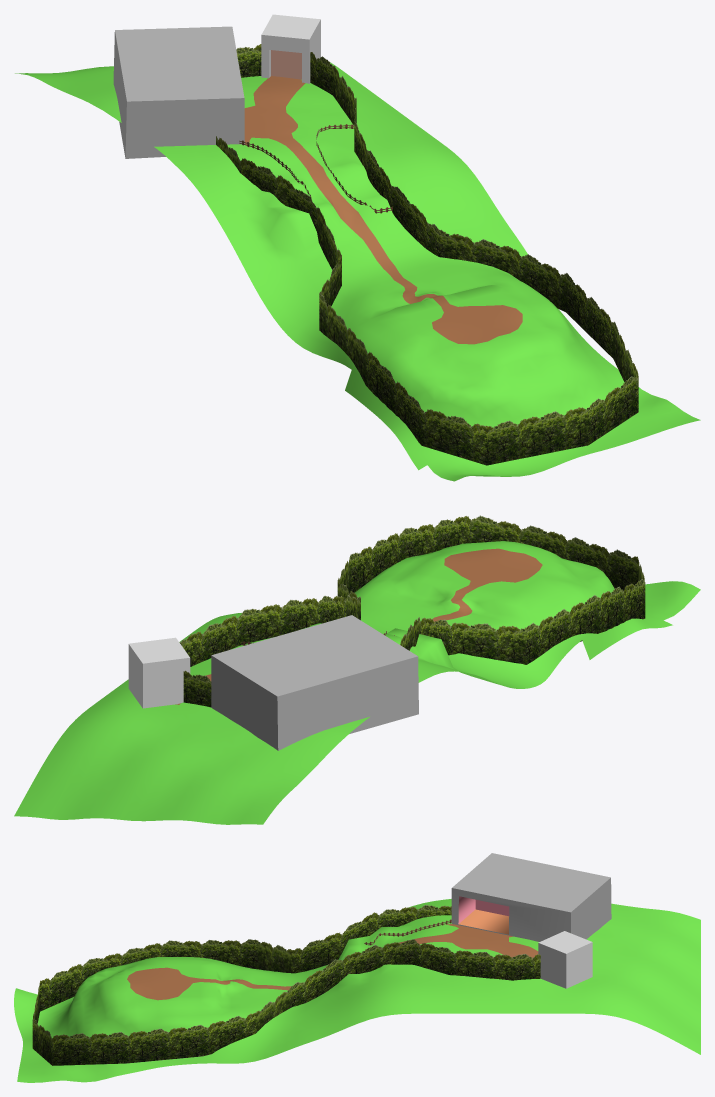
File: MapI.fbx
The picture shows the model from 3 angles, top to bottom: view 1: azimuth 30°, elevation 25°; view 2: azimuth 150°, elevation 25°; view 3: azimuth 270°, elevation 25°; orthographic projection. The views are drawn at different scales.
Parts seen in each view (by area): view 1: Plane, TreeLine, Building1, Building2, Fences; view 2: Plane, TreeLine, Building1, Building2; view 3: Plane, TreeLine, Building1, Building2.
Part boxes in pixels (left/top/right/bottom): Plane: left=15, top=62, right=700, bottom=481; TreeLine: left=216, top=44, right=638, bottom=465; Building1: left=113, top=26, right=244, bottom=158; Building2: left=261, top=14, right=320, bottom=83; Fences: left=239, top=124, right=392, bottom=213; Plane: left=14, top=541, right=700, bottom=824; TreeLine: left=179, top=515, right=645, bottom=707; Building1: left=211, top=615, right=418, bottom=750; Building2: left=128, top=637, right=190, bottom=708; Plane: left=14, top=899, right=700, bottom=1082; TreeLine: left=32, top=905, right=570, bottom=1065; Building1: left=451, top=853, right=611, bottom=941; Building2: left=538, top=931, right=592, bottom=988.
Bounding box in the file's own units: 12978 × 8159 × 36523.
